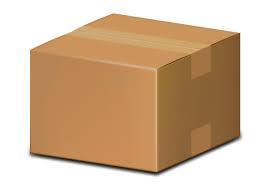box: (30, 13, 240, 173)
